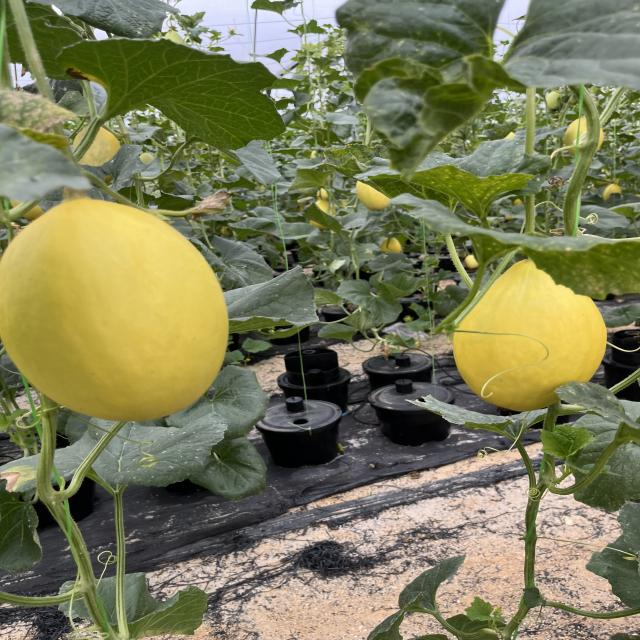SLCV: (410, 393, 536, 448), (320, 139, 387, 176)
alternaria leaf blight: (44, 36, 291, 154)
downy mildew: (414, 144, 526, 210)
healthy: (220, 262, 322, 333)
powdery mildew: (114, 406, 226, 491), (555, 376, 625, 423)
